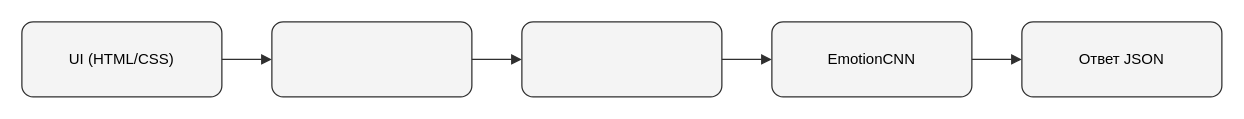
Image size: 1244x119. Some labels were removed from this diagram. The shapes that lost their labels are listed below. From the top down, each one's box as (x1, y1, x2, y2) in pixels, then its label:
(271, 21, 472, 97): Flask API
(521, 21, 722, 97): Preprocess
